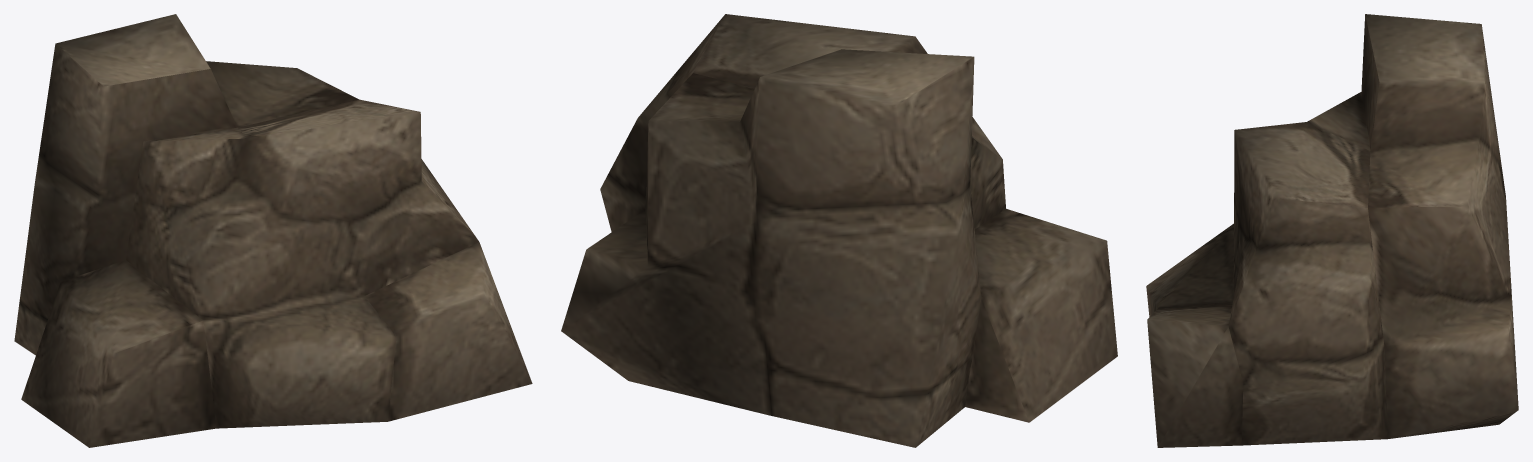
The model's file is shitou03.FBX.
3 views of the same model, side by side, from view 1: azimuth 30°, elevation 25°; view 2: azimuth 150°, elevation 25°; view 3: azimuth 270°, elevation 25° (orthographic). The views are drawn at different scales.
Visible parts, largest first — view 1: Group59631; view 2: Group59631; view 3: Group59631.
Boxes of the visible parts, x1=… form: Group59631: x1=14, y1=14, x2=532, y2=447; Group59631: x1=561, y1=14, x2=1117, y2=447; Group59631: x1=1146, y1=14, x2=1518, y2=447.
Size of the model in its own units: 55.04 by 38.73 by 44.2.
